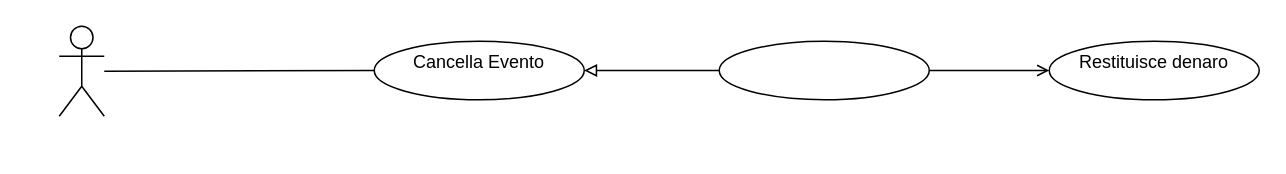
This 1286x174 diagram has some shape labels left out. Here are the shapes that lost their labels. From the top down, the centre of each, then its label:
At (81,70): "Organizzatore".
At (823,70): "Cancella Evento a pagamento".
